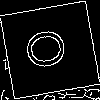O: (24, 24, 76, 72)
